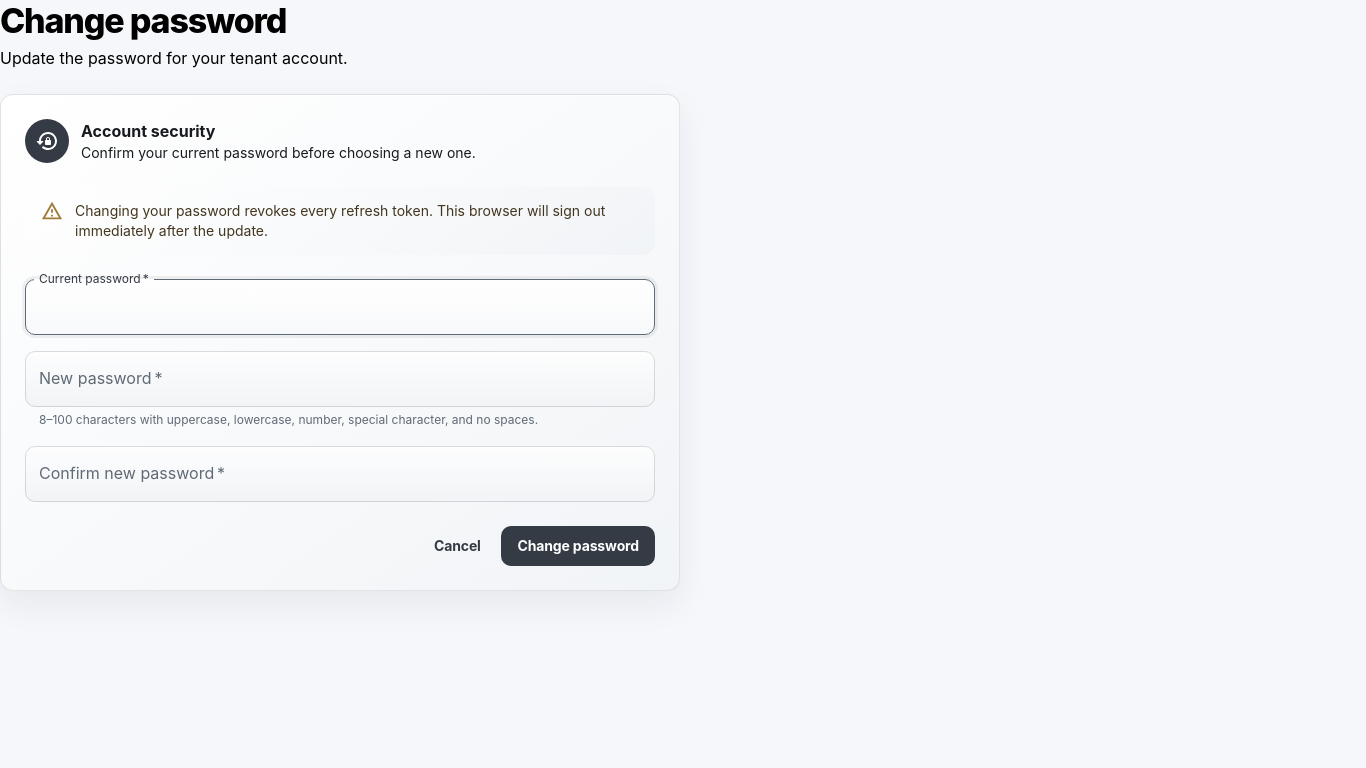
Test: TenantChangePasswordPage › changes the password, clears the tenant session, and prepares sign-in
Type "Current@123" into the password field labelled "Current password *" at (340, 307), box [25,279,655,335]
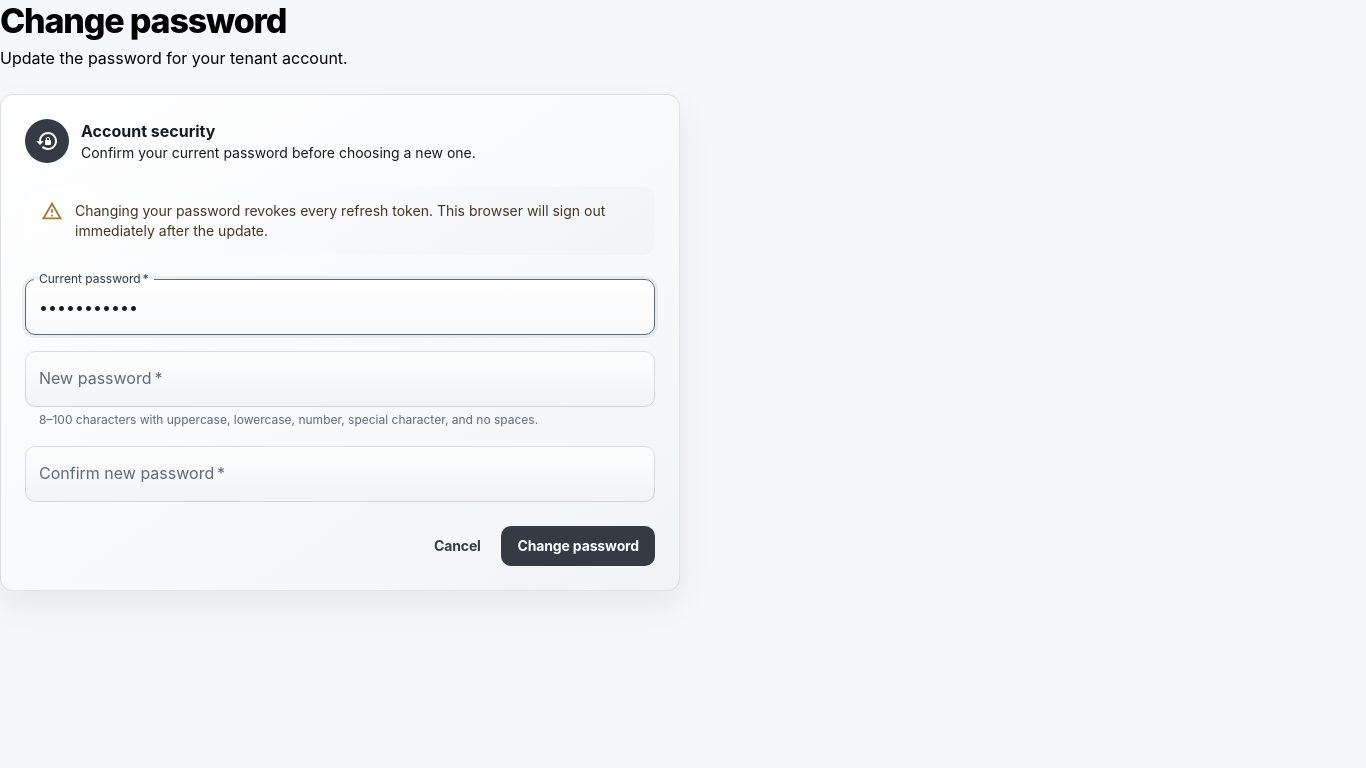
Type "Stronger@456" into the password field labelled "New password *" at (340, 379), box [25,351,655,407]
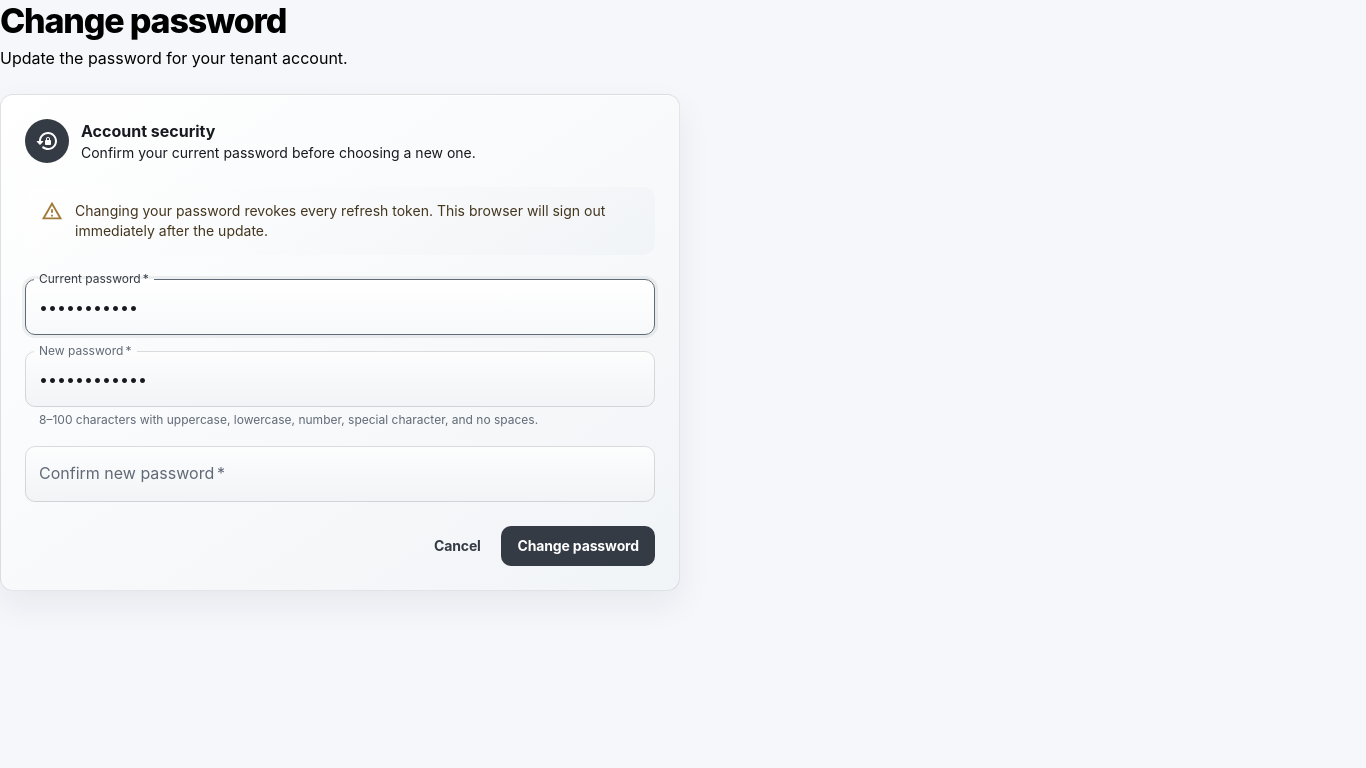
Type "Stronger@456" into the password field labelled "Confirm new password *" at (340, 474), box [25,446,655,502]
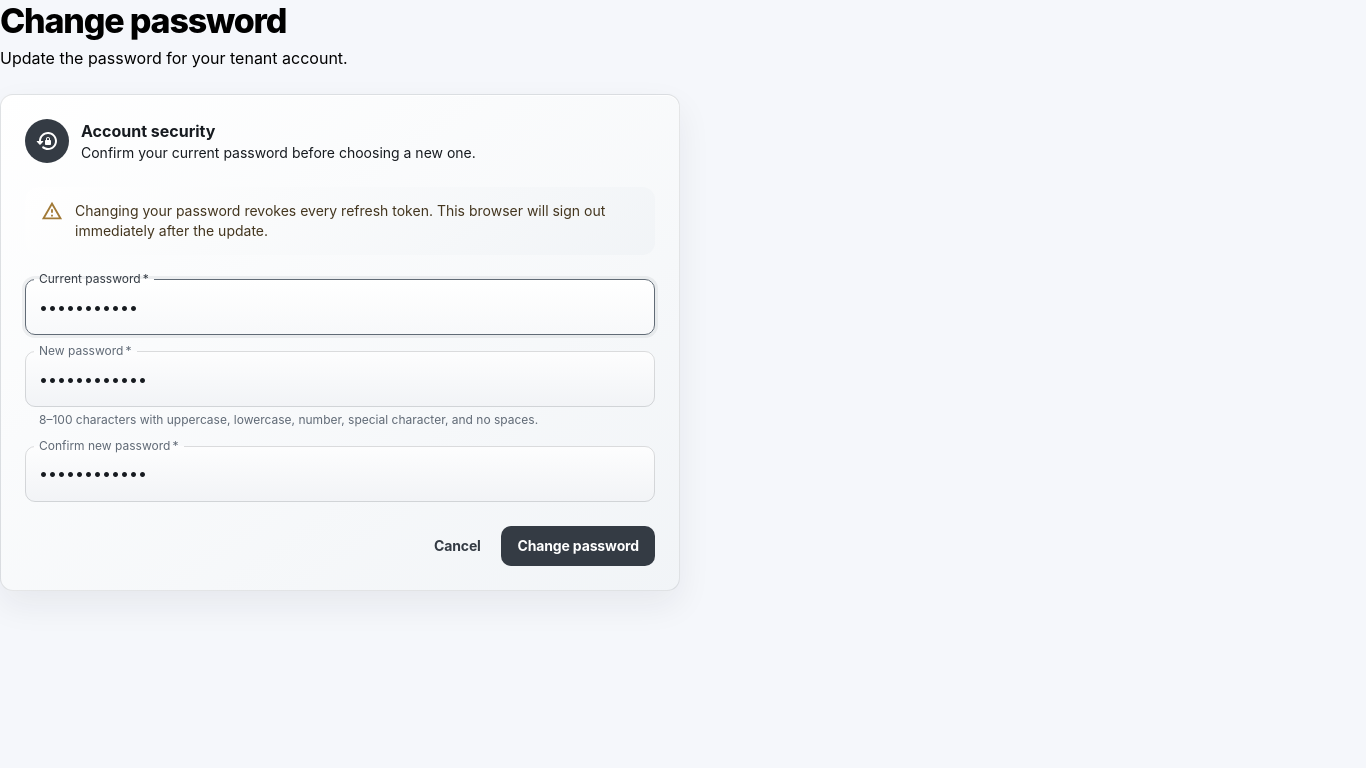
Click the button "Change password" at (578, 546), box [501,526,655,566]
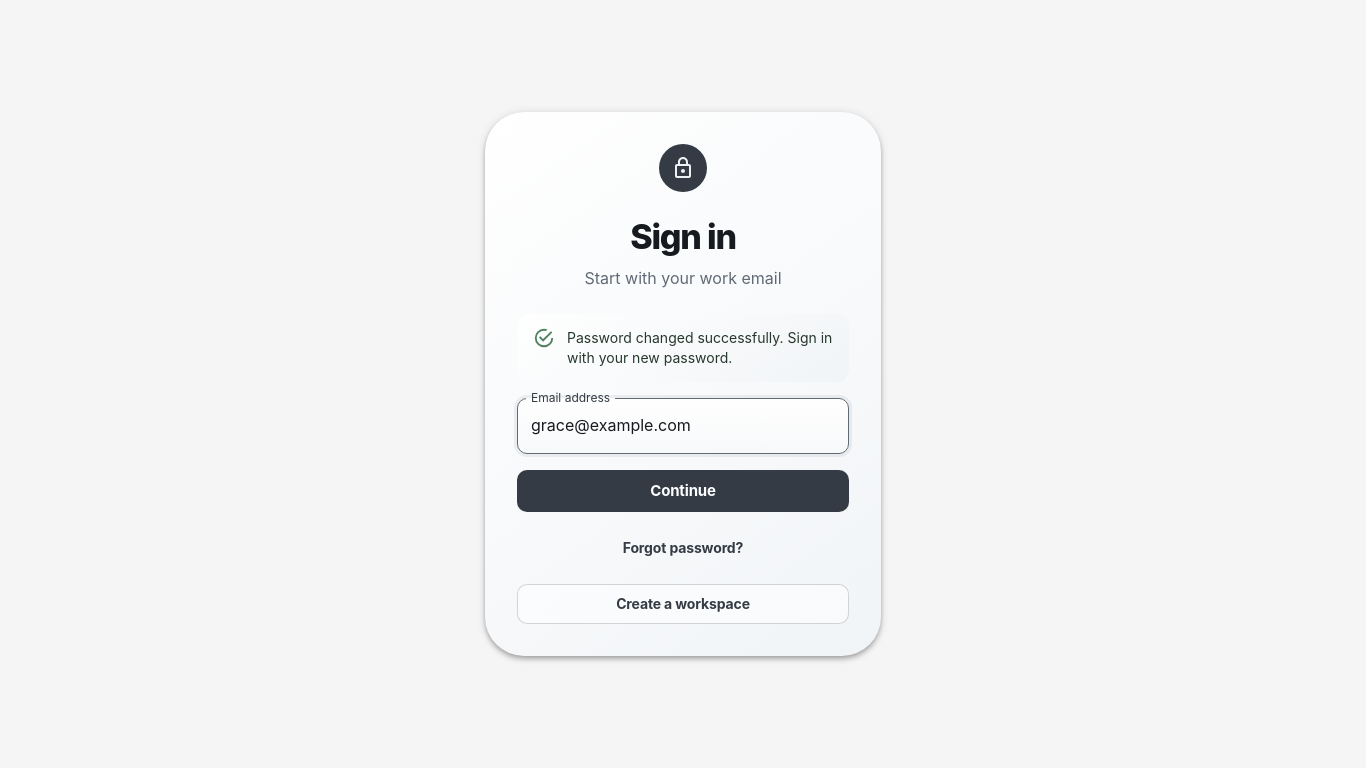
Check: the heading "Sign in" is shown, box [630,216,736,257]
Check: the text "Password changed successfully. Sign in with your new password" is shown, box [567,329,832,366]
Check: the field labelled "Email address" holds "grace@example.com", box [517,398,849,454]
